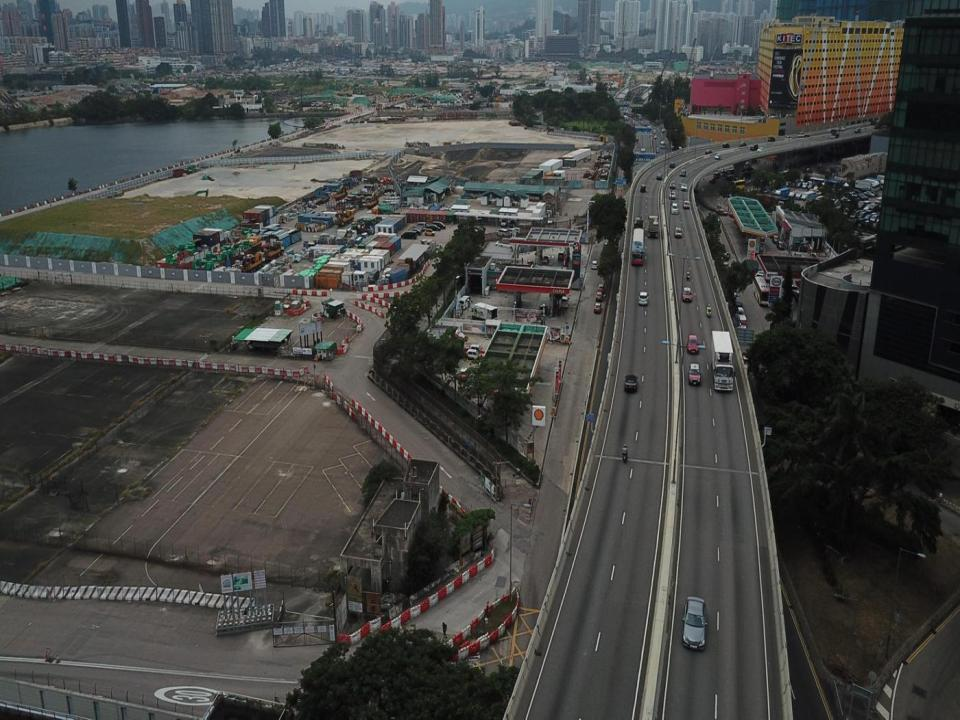bus: (752, 275, 770, 305), (632, 227, 644, 267)
car: (681, 596, 708, 650), (687, 362, 702, 386), (462, 347, 486, 360), (464, 342, 486, 356), (687, 332, 700, 354), (624, 374, 639, 392), (458, 293, 470, 309), (637, 291, 649, 306), (682, 286, 693, 302), (367, 269, 380, 282), (736, 306, 747, 321), (561, 293, 570, 308), (593, 301, 602, 314), (674, 225, 682, 238), (432, 221, 446, 228), (427, 224, 440, 231), (424, 227, 435, 235), (682, 199, 690, 209), (756, 146, 766, 154), (767, 136, 777, 144), (596, 290, 604, 300), (590, 260, 598, 270), (797, 131, 806, 139), (596, 283, 604, 292), (669, 190, 676, 200), (680, 182, 687, 192), (656, 172, 663, 182), (784, 134, 792, 142), (704, 149, 713, 156), (738, 142, 747, 149), (640, 183, 646, 193), (669, 179, 676, 187), (679, 169, 686, 177), (714, 152, 721, 160), (722, 142, 730, 149), (839, 124, 846, 132), (830, 127, 837, 135), (854, 126, 861, 133), (668, 162, 676, 168)
truck: (709, 329, 736, 392), (471, 300, 497, 322), (646, 214, 659, 239), (633, 214, 644, 236)
van: (401, 230, 418, 240), (670, 201, 679, 215)
